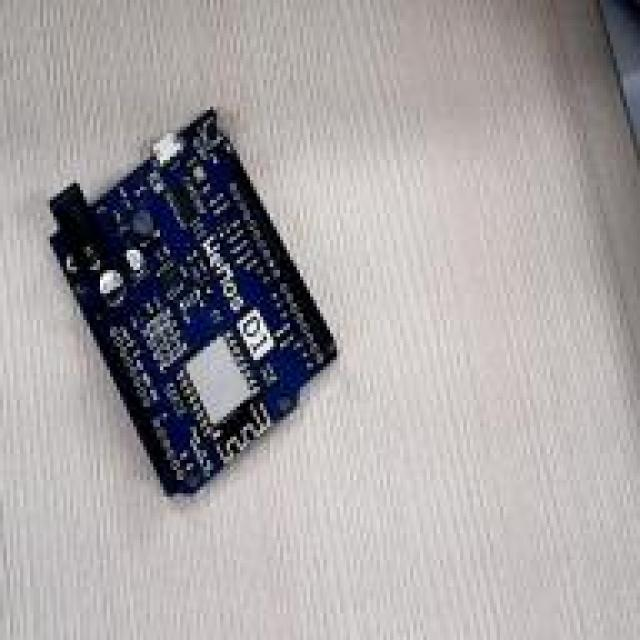Wemos: (51, 111, 334, 491)
